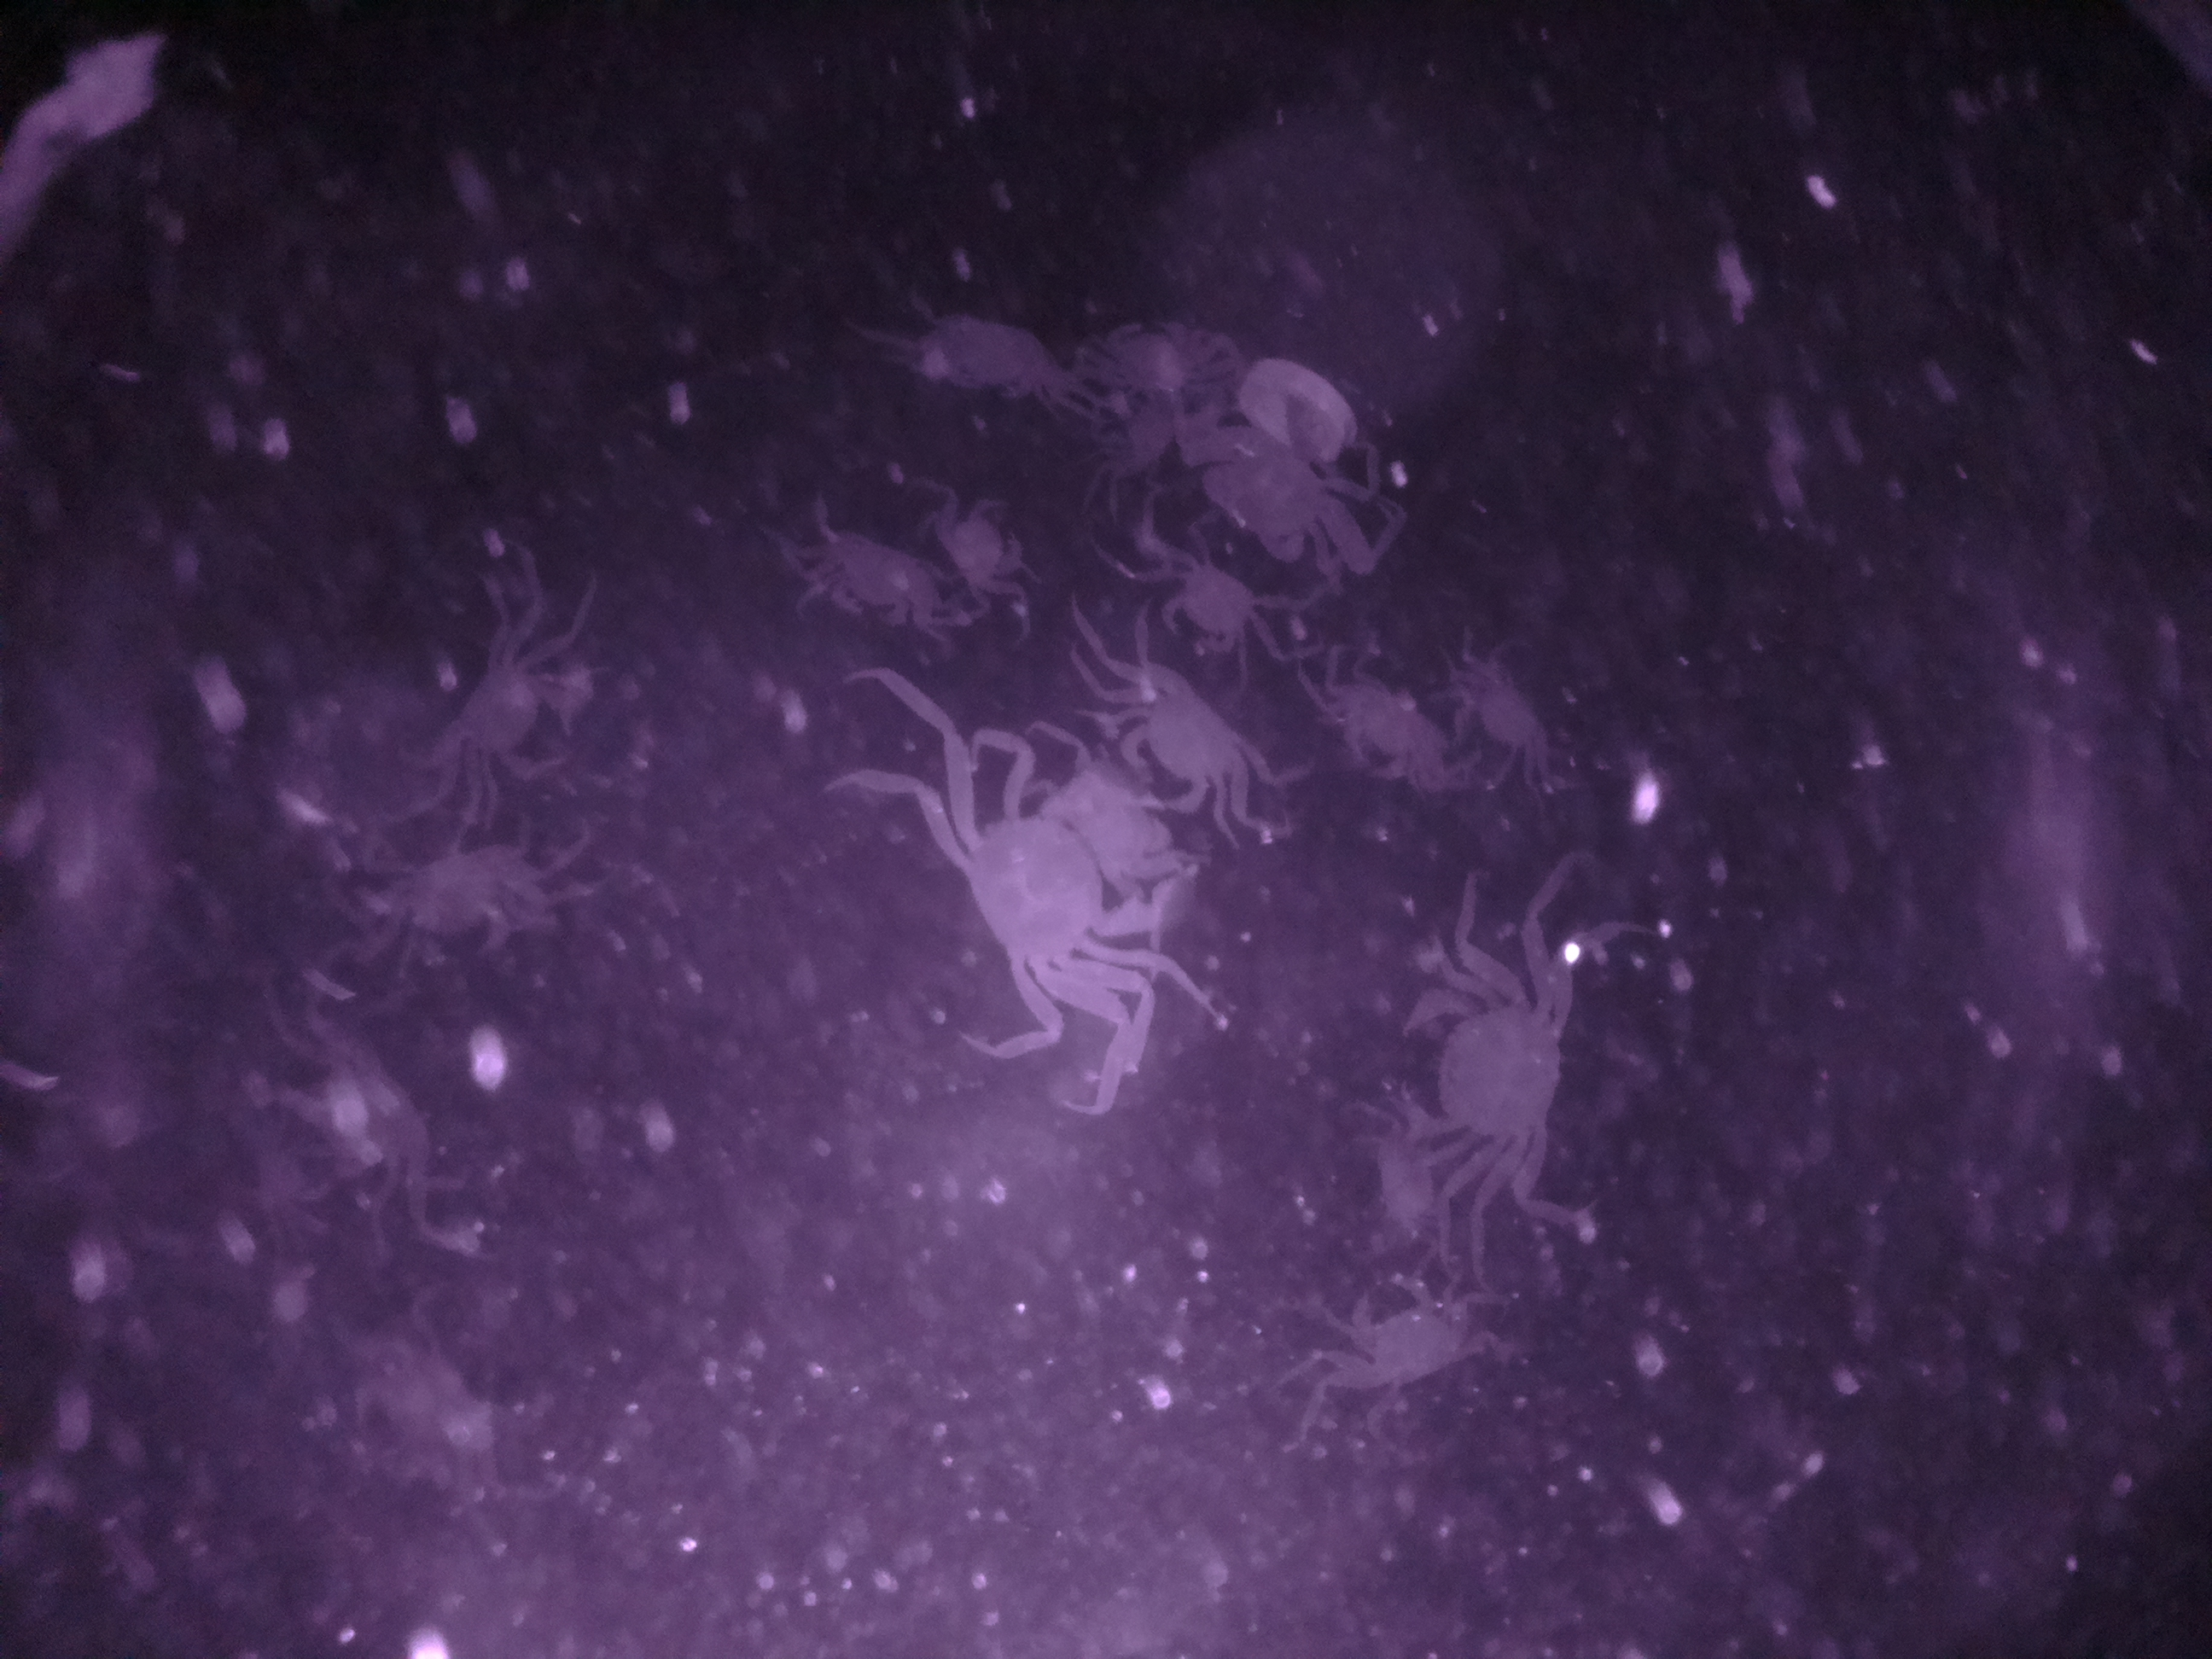Crab: (916, 749, 1132, 997), (1362, 965, 1592, 1183), (1312, 1244, 1501, 1438), (1109, 662, 1291, 816), (1324, 652, 1442, 803), (806, 518, 939, 652), (1127, 554, 1278, 655)
